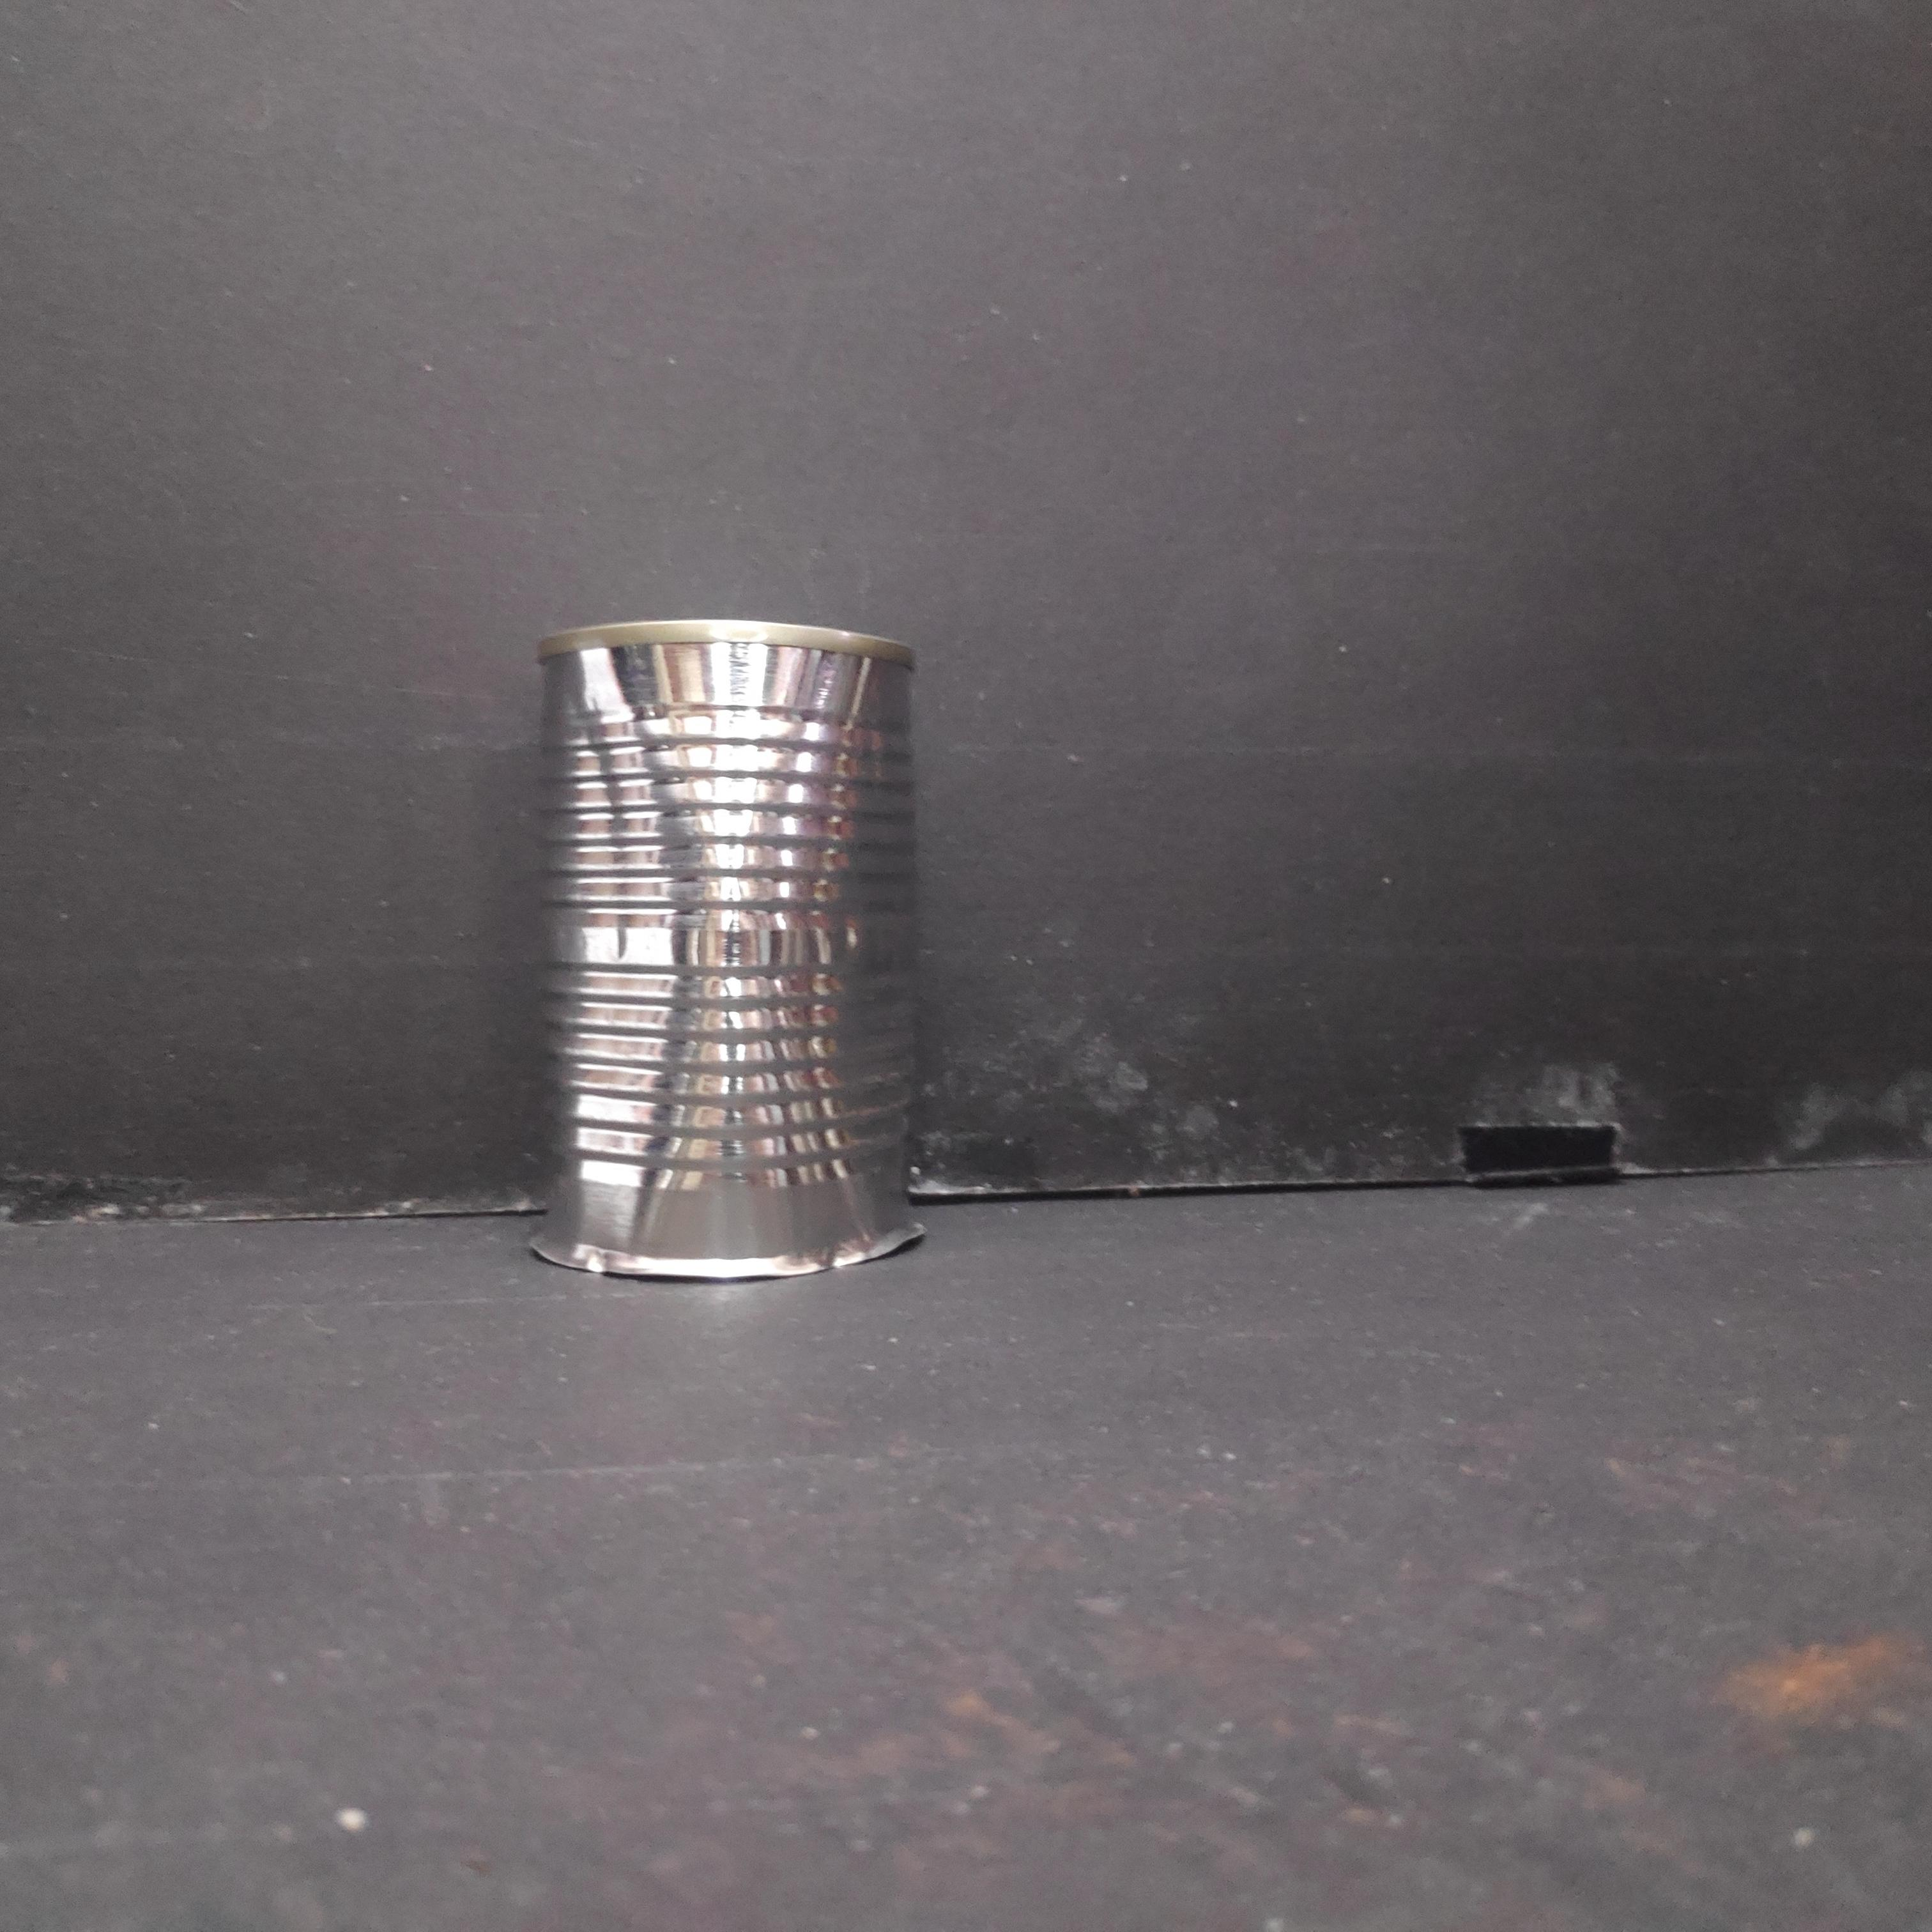Minor Defect: (518, 605, 934, 1297)
